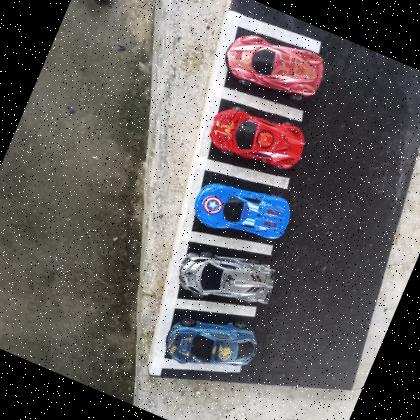Car: (186, 165, 298, 257), (217, 20, 331, 110), (158, 297, 266, 390), (171, 234, 282, 324), (203, 95, 312, 182)
